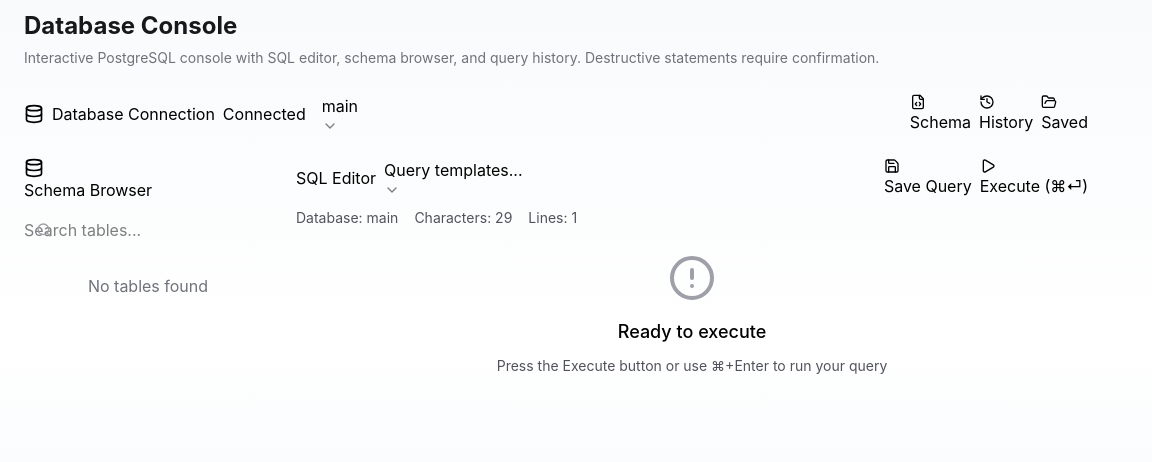
Test: DatabaseConsolePage › can toggle saved queries sidebar
The width and height of the screenshot is (1152, 462).
Check: the button "Saved" is shown, box [1041,94,1088,134]
// First, hide the schema browser so saved sidebar can appear
Click the button "Schema": (940, 114) [910,94,971,134]
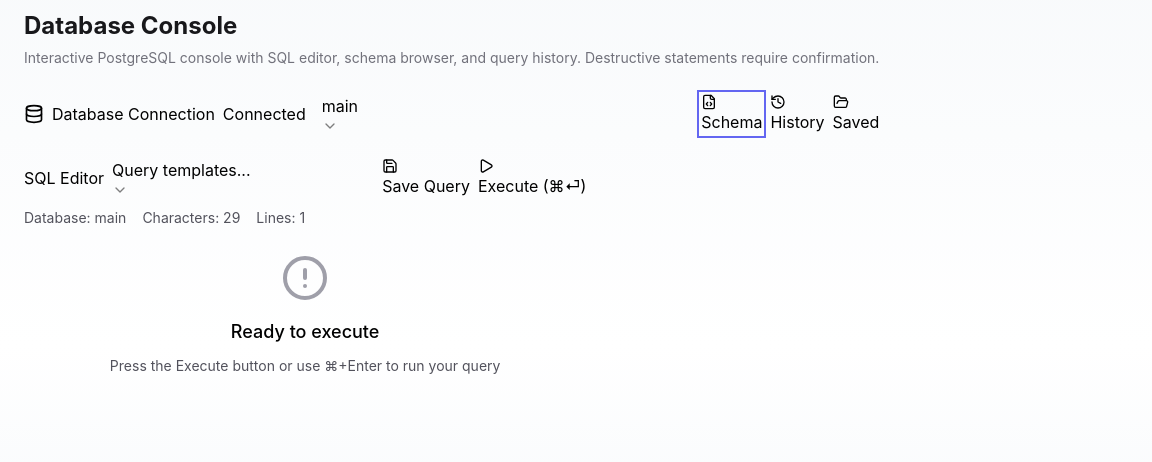
// Now click saved
Click the button "Saved": (856, 114) [833,94,879,134]
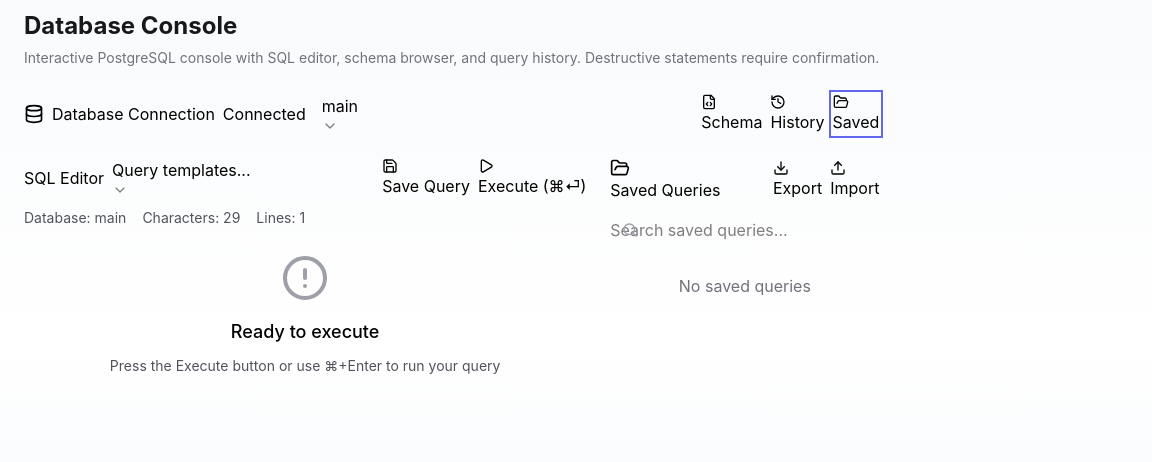
Check: the heading "Saved Queries" is shown, box [610,158,720,202]
